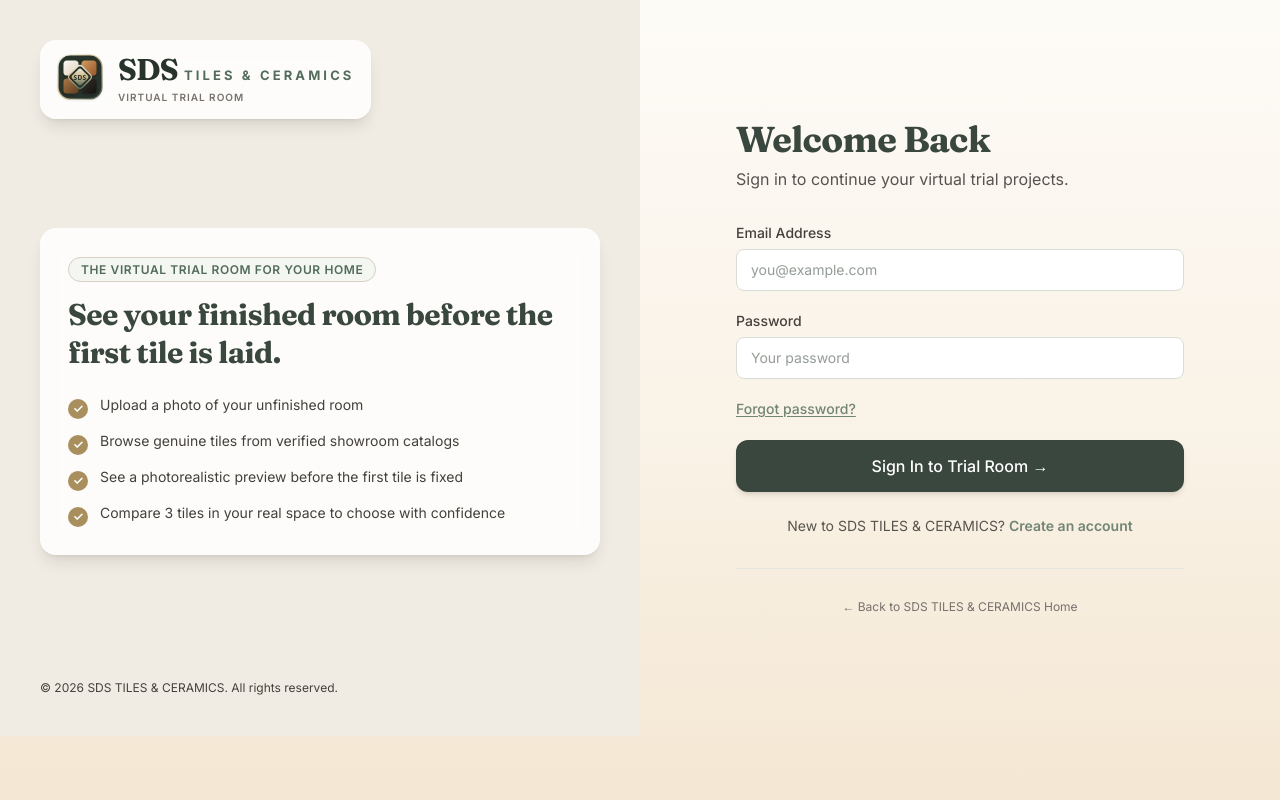
Test: sign-in and accounts › 'Forgot password?' emails a link that opens /reset-password
Type "owner@sds.test" into the field labelled "Email Address".
click(960, 270); type("owner@sds.test")  # box [736,249,1184,291]
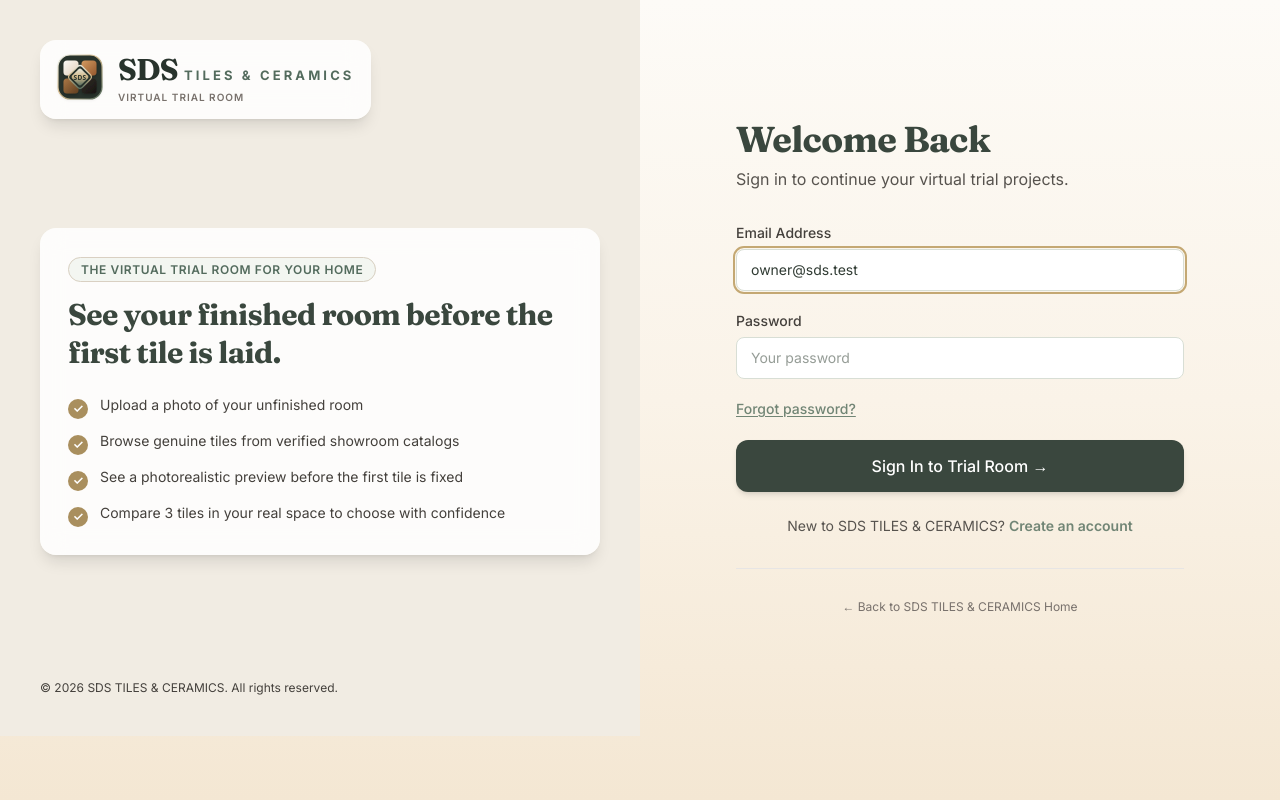
Click the button "Forgot password?".
click(796, 409)  # box [736,399,856,419]
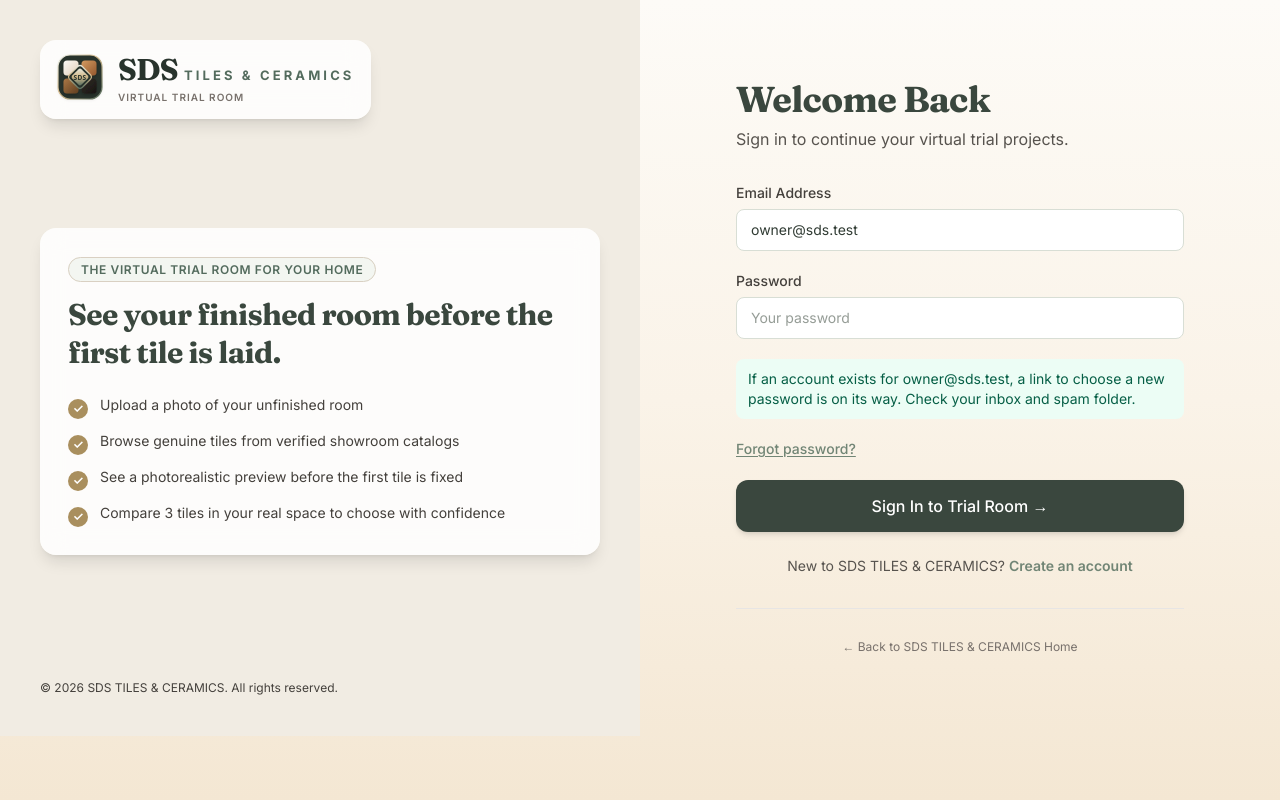
Expected: the text "a link to choose a new password is on its way" is shown, [748,370,1165,407]
